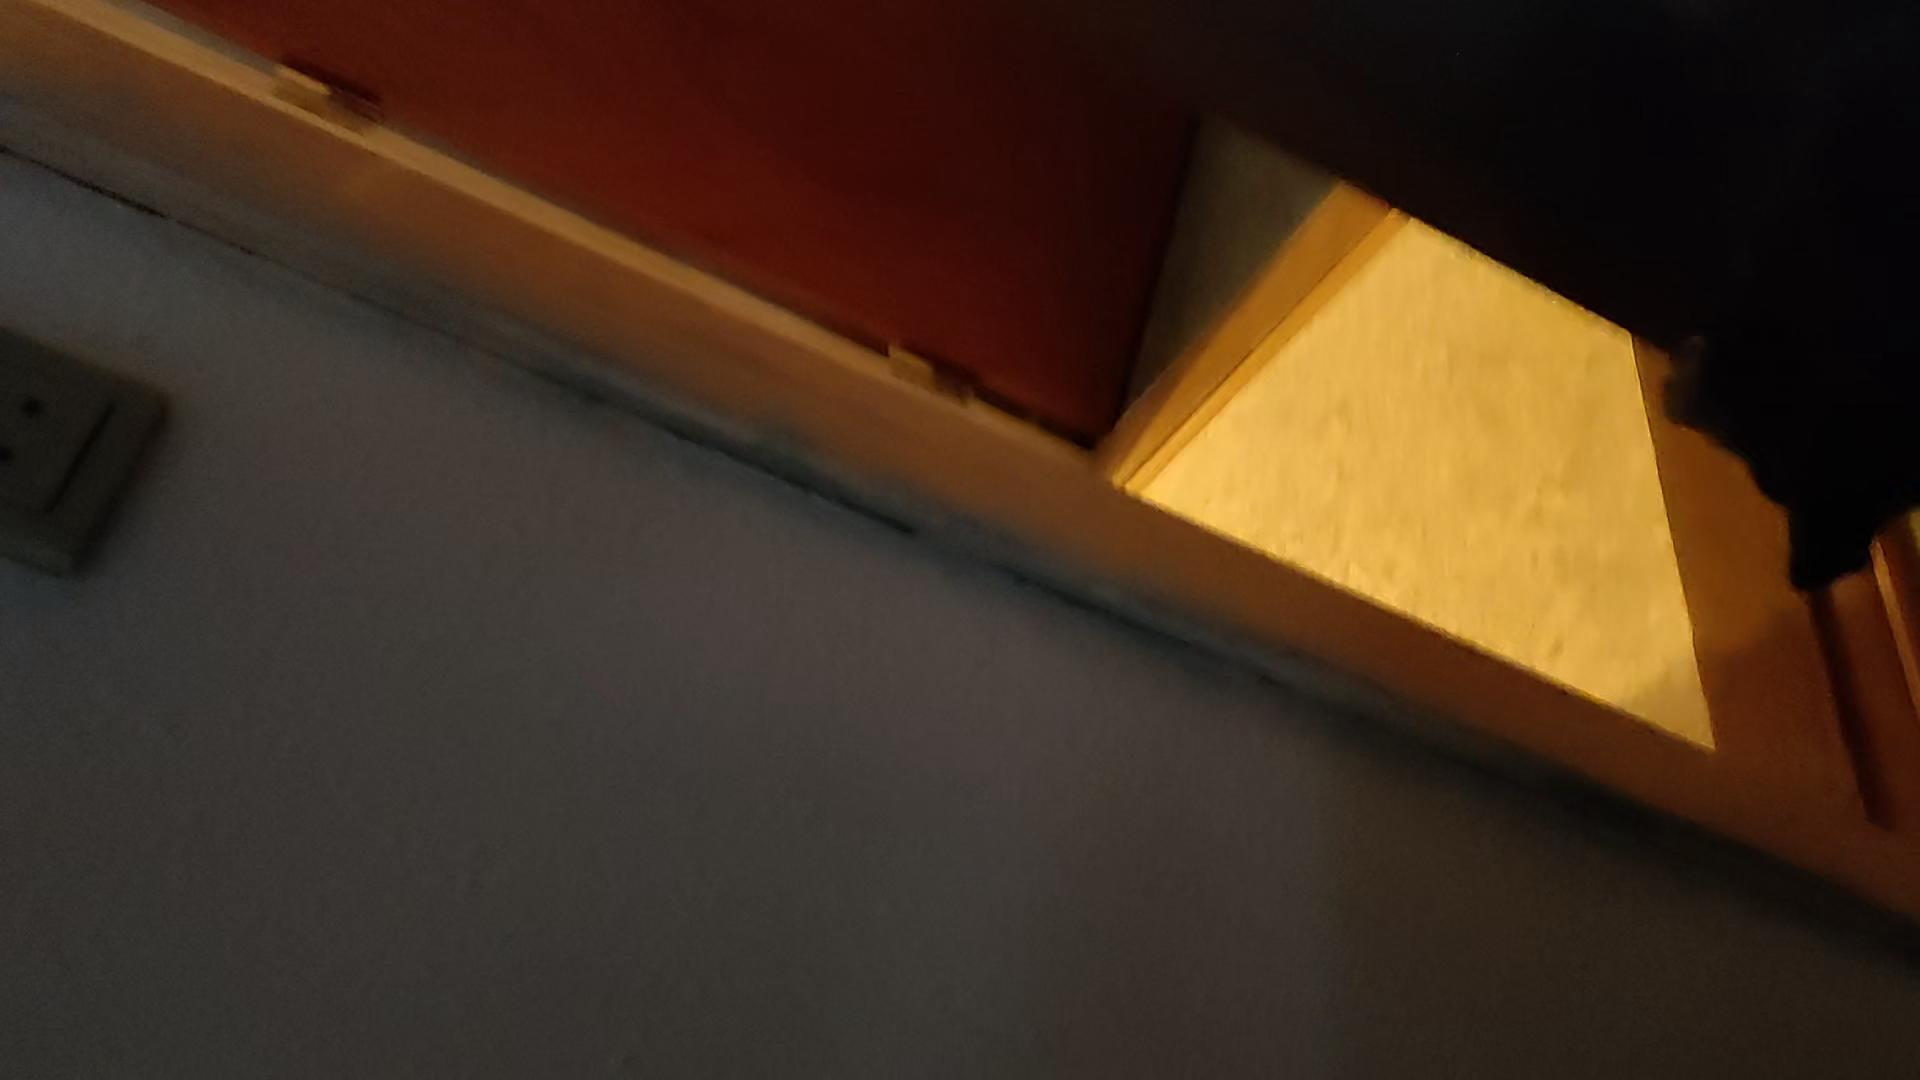Dog: (1615, 232, 1919, 629)
